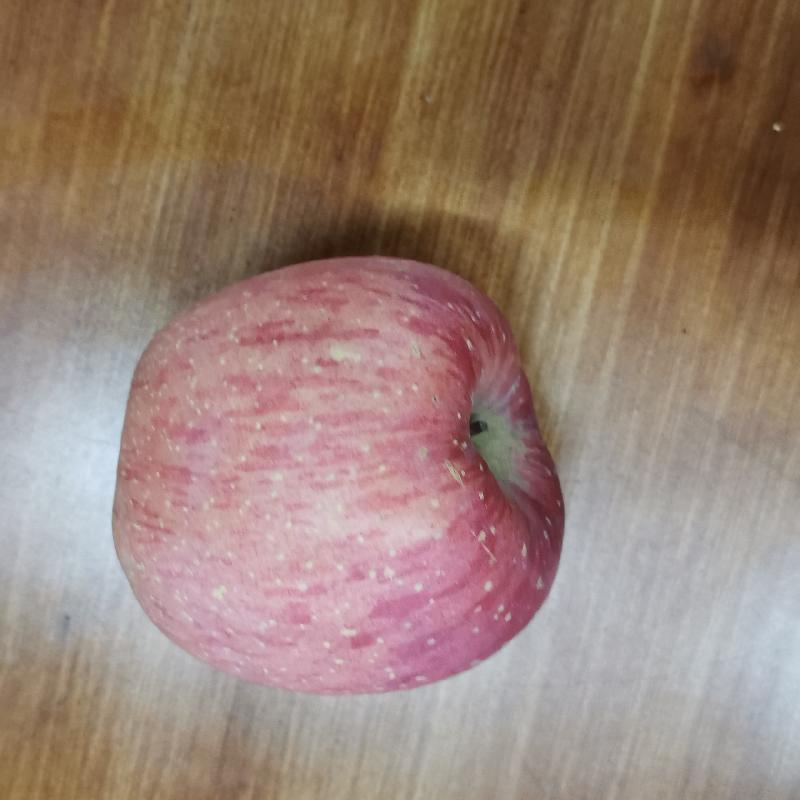apples: (110, 250, 573, 703)
